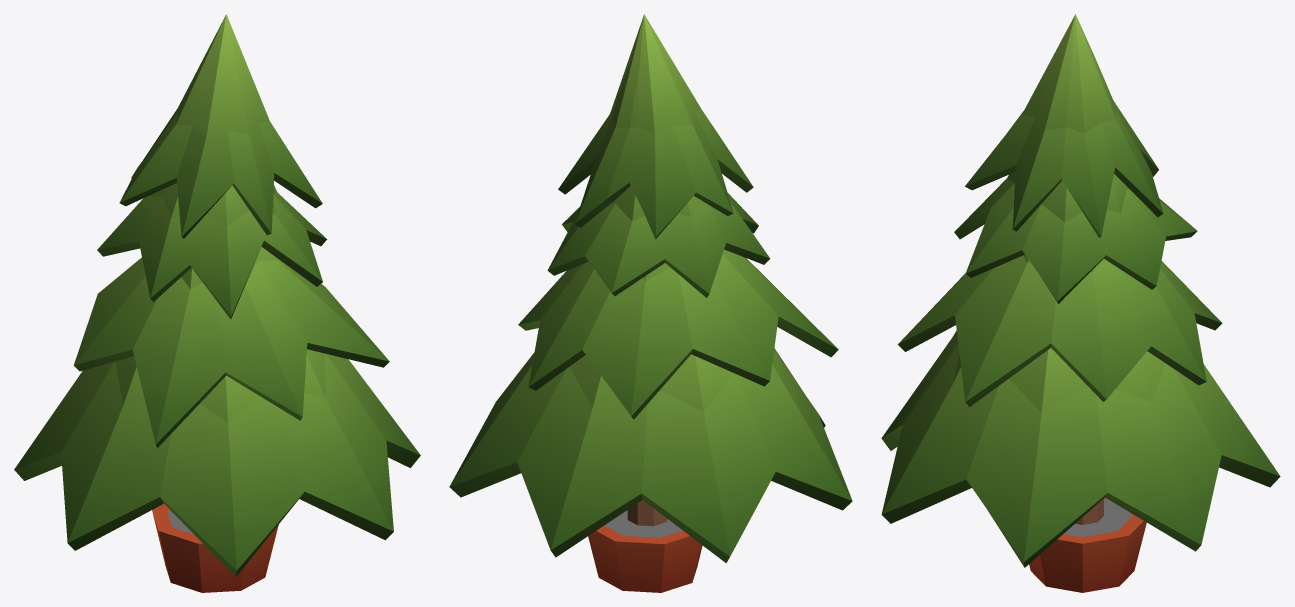
The model's file is christmas tree.fbx.
3 views of the same model, side by side, from view 1: azimuth 30°, elevation 25°; view 2: azimuth 150°, elevation 25°; view 3: azimuth 270°, elevation 25° (orthographic).
Parts seen in each view (by area): view 1: christmas tree; view 2: christmas tree; view 3: christmas tree.
Part boxes in pixels (x1,y1,x2,y2): christmas tree: [14, 14, 420, 592]; christmas tree: [449, 14, 852, 592]; christmas tree: [881, 14, 1280, 592].
Bounding box in the file's own units: 322 × 487 × 314.
